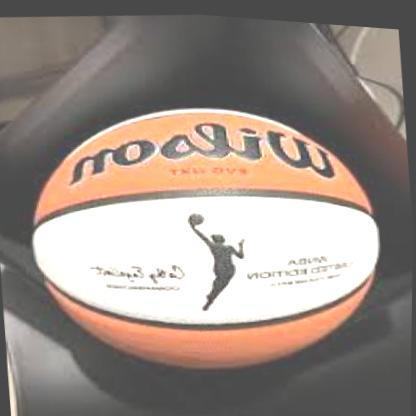basketball: (21, 82, 391, 389)
